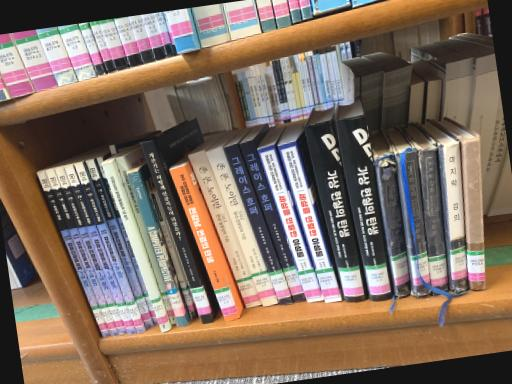book-spine: (141, 140, 214, 324), (37, 171, 111, 337), (65, 165, 137, 334), (46, 169, 119, 335), (55, 167, 128, 333), (75, 162, 145, 332), (102, 161, 171, 332), (188, 150, 262, 308), (305, 119, 368, 302), (86, 159, 154, 327), (207, 146, 278, 306), (224, 143, 293, 305), (170, 165, 239, 321), (240, 139, 306, 302), (337, 114, 393, 301), (278, 140, 342, 303), (97, 156, 159, 324), (116, 157, 178, 324), (258, 144, 323, 302), (128, 171, 188, 326), (150, 192, 196, 318), (376, 152, 411, 296), (418, 146, 450, 294), (399, 149, 431, 295), (441, 142, 469, 290), (464, 138, 486, 289)
